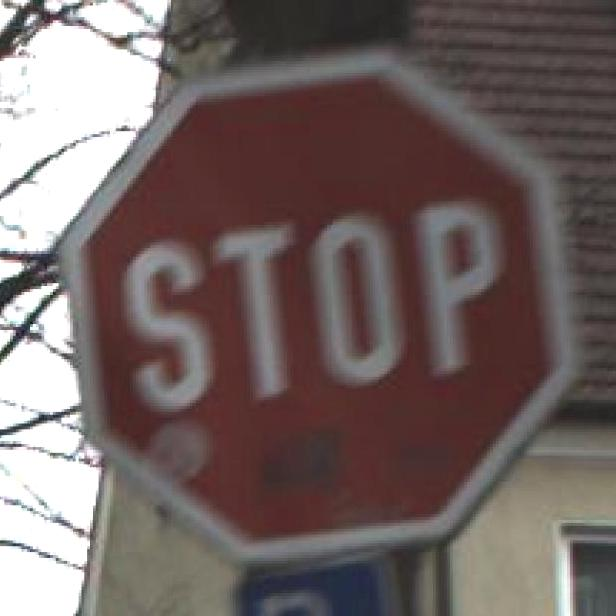stop_sign: (44, 46, 576, 578)
